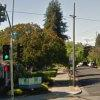Tree: (18, 0, 77, 70)
